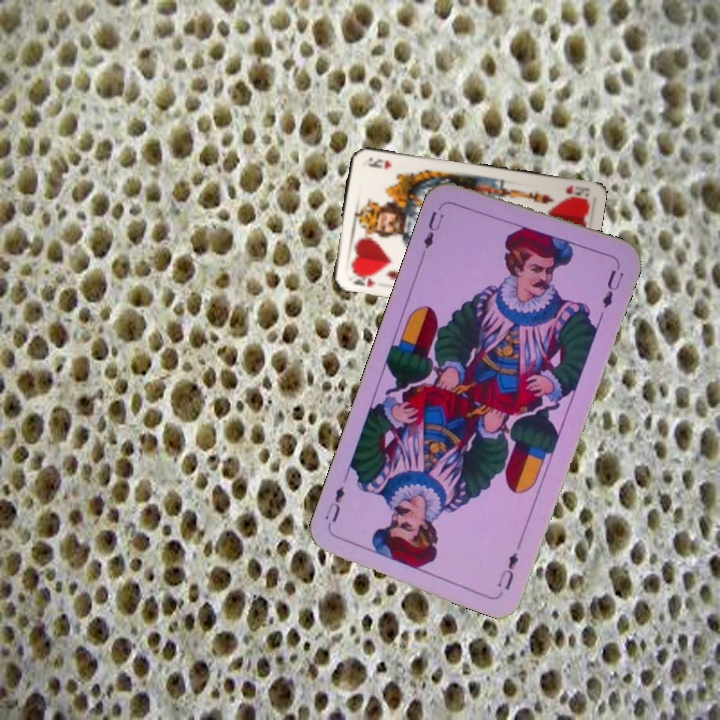EU: (493, 536, 525, 593), (417, 200, 447, 258)
HK: (348, 268, 379, 289), (562, 180, 591, 202)
